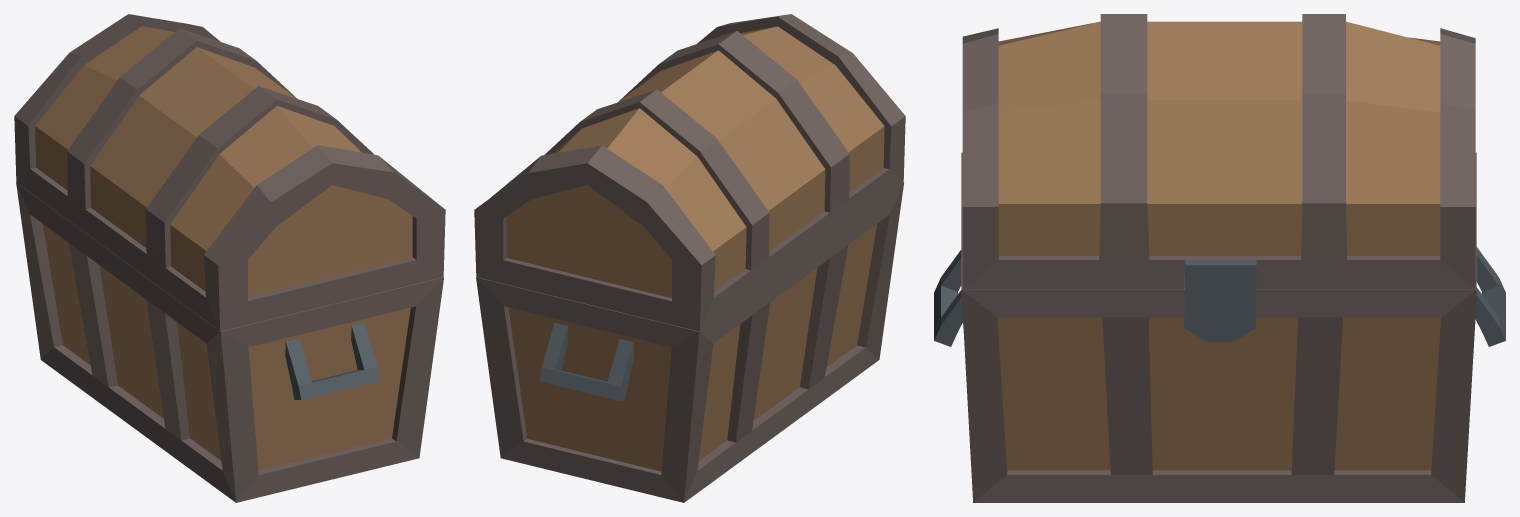
The model's file is Chest-B01.fbx.
3 renders of one model, left to right at view 1: azimuth 30°, elevation 25°; view 2: azimuth 150°, elevation 25°; view 3: azimuth 270°, elevation 25°, orthographic. The views are drawn at different scales.
Parts seen in each view (by area): view 1: Chest-B-top, Chest-B01; view 2: Chest-B-top, Chest-B01; view 3: Chest-B-top, Chest-B01.
Boxes of the visible parts, box(x1,y1,x2,y2) form: Chest-B-top: box(14, 14, 445, 331); Chest-B01: box(16, 182, 443, 502); Chest-B-top: box(474, 14, 905, 331); Chest-B01: box(476, 182, 904, 502); Chest-B-top: box(962, 14, 1475, 341); Chest-B01: box(934, 152, 1505, 502).
Size of the model in its own units: 66.38 by 93.28 by 112.
